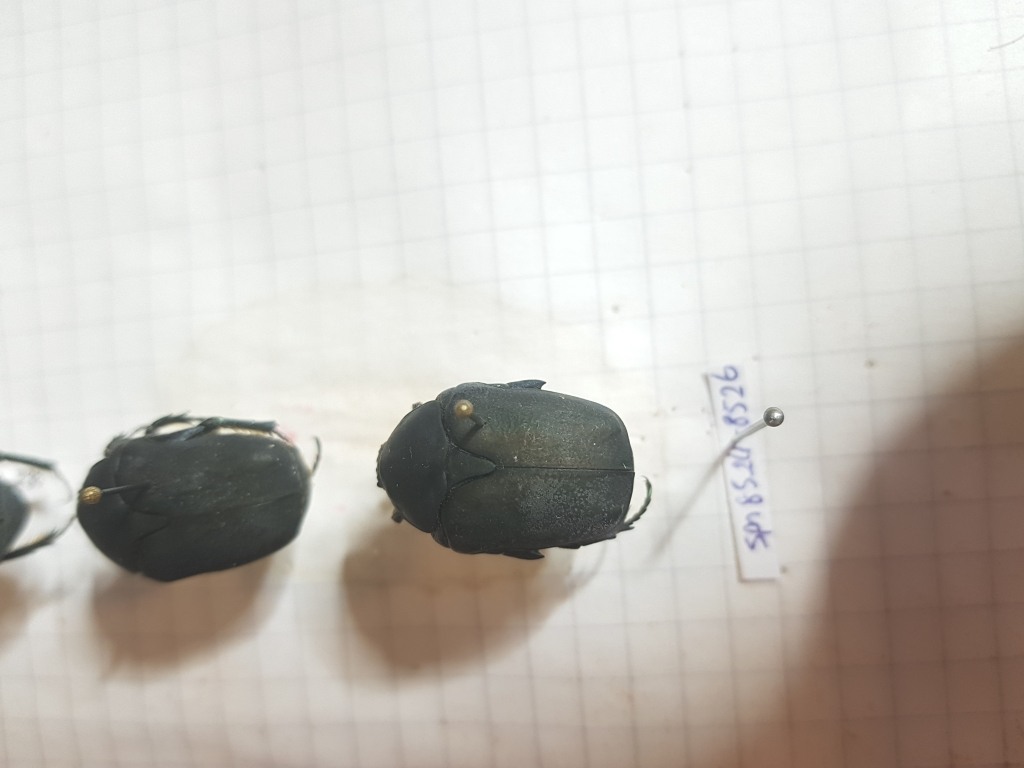Protaetia_afflicta: (371, 365, 658, 573), (76, 404, 340, 595)
